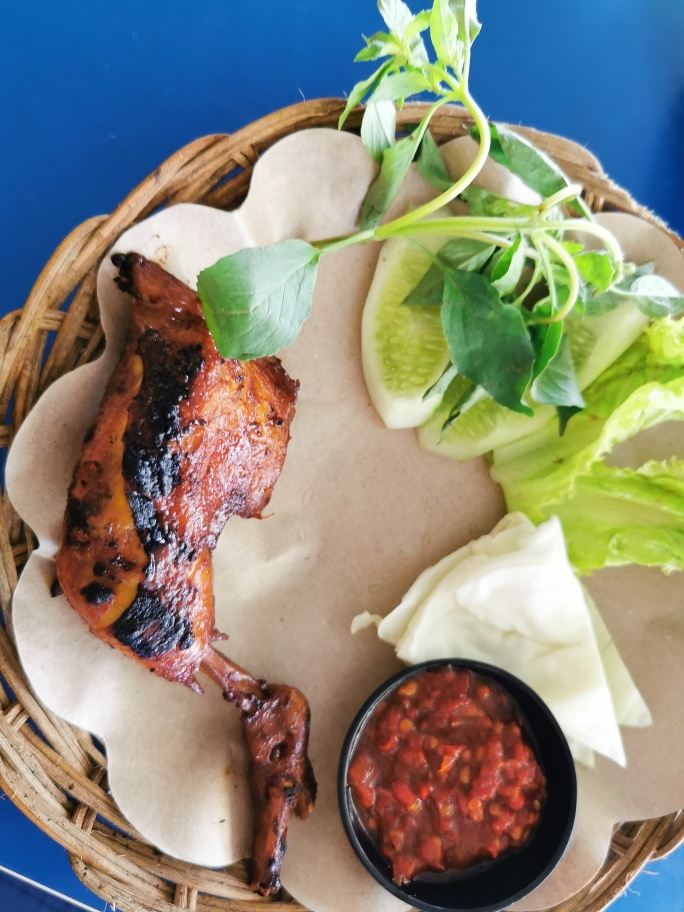ayam bakar: (48, 246, 356, 880)
